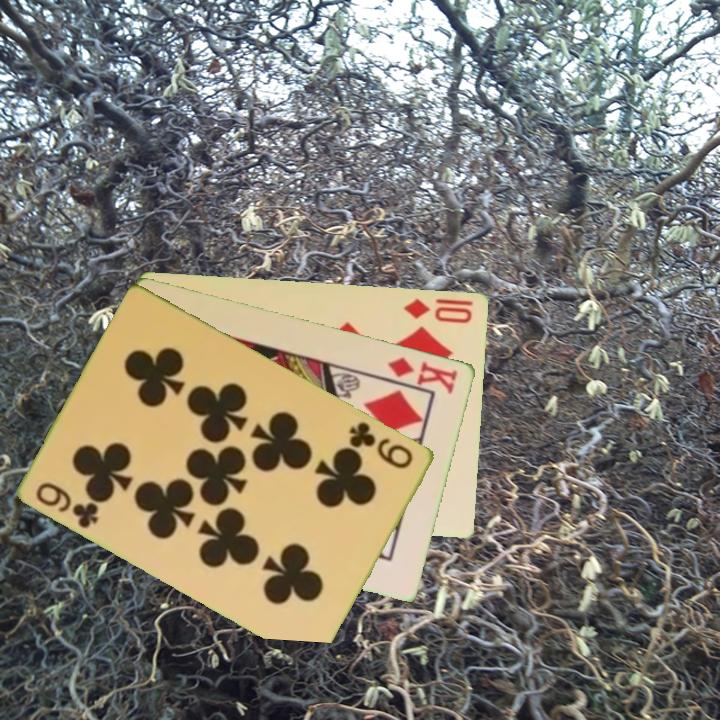10d: (401, 294, 476, 326)
9c: (346, 417, 417, 472), (32, 478, 102, 532)
Kd: (384, 353, 461, 397)
